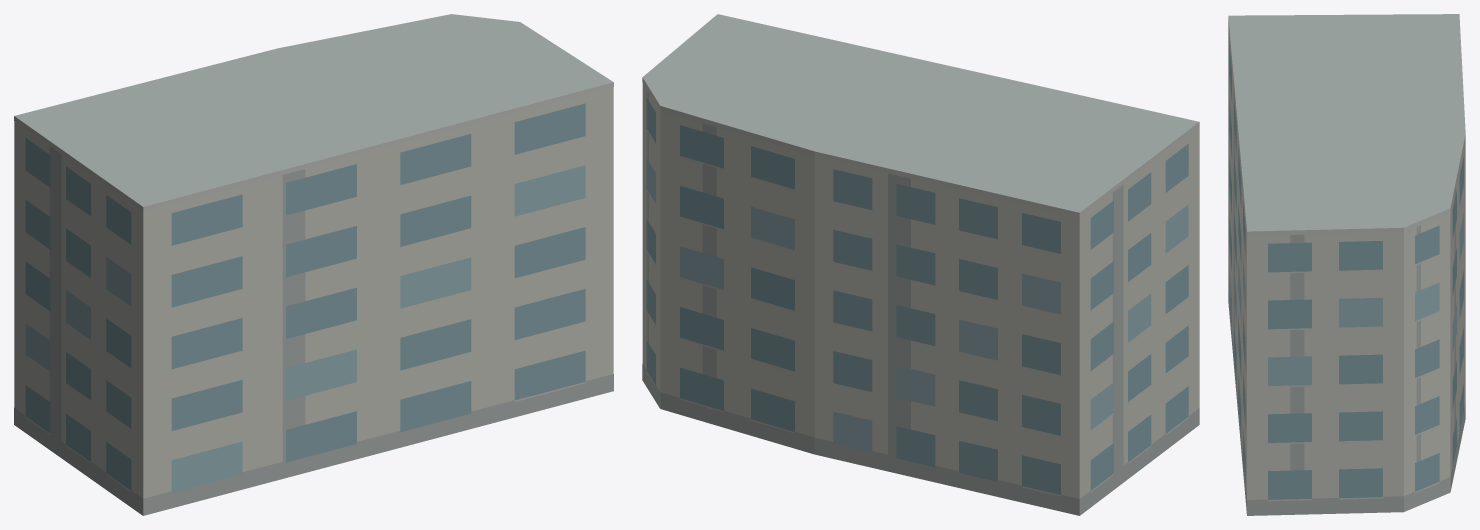
Rendered from survey-upis-32630495.glb.
The picture shows the model from 3 angles, left to right: view 1: azimuth 30°, elevation 25°; view 2: azimuth 150°, elevation 25°; view 3: azimuth 270°, elevation 25°; orthographic projection. The views are drawn at different scales.
Parts seen in each view (by area): view 1: survey-upis-32630495.tmp; view 2: survey-upis-32630495.tmp; view 3: survey-upis-32630495.tmp.
Part boxes in pixels (<box>): survey-upis-32630495.tmp: <box>14,14,613,515</box>; survey-upis-32630495.tmp: <box>642,14,1199,515</box>; survey-upis-32630495.tmp: <box>1228,14,1465,515</box>.
Bounding box in the file's own units: 25.03 × 15.25 × 11.55.
